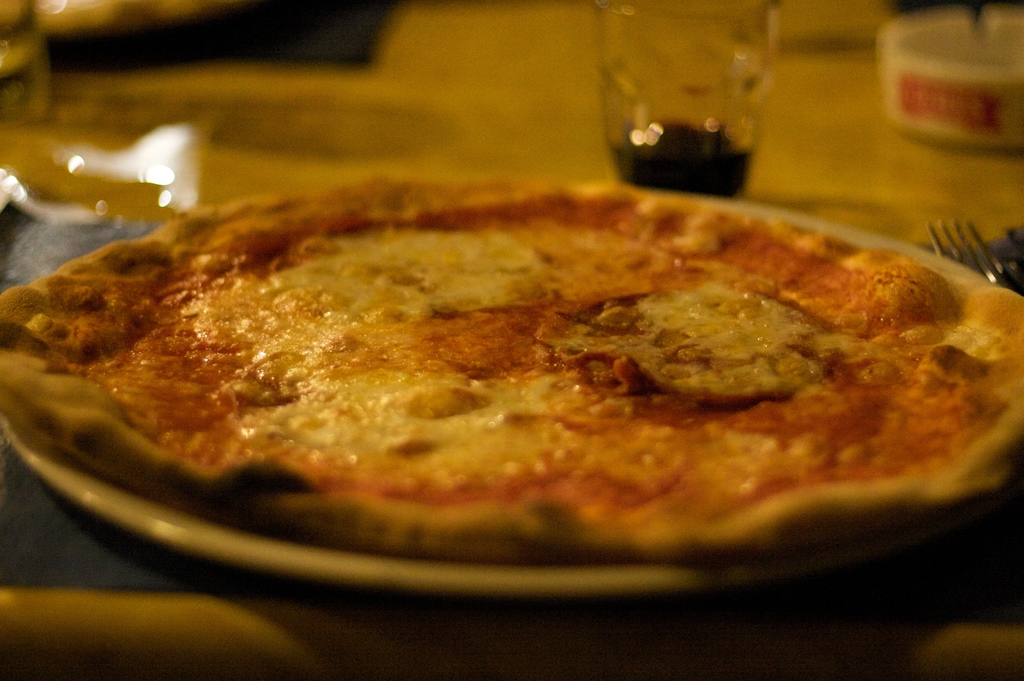Pizza: (7, 165, 1008, 606)
